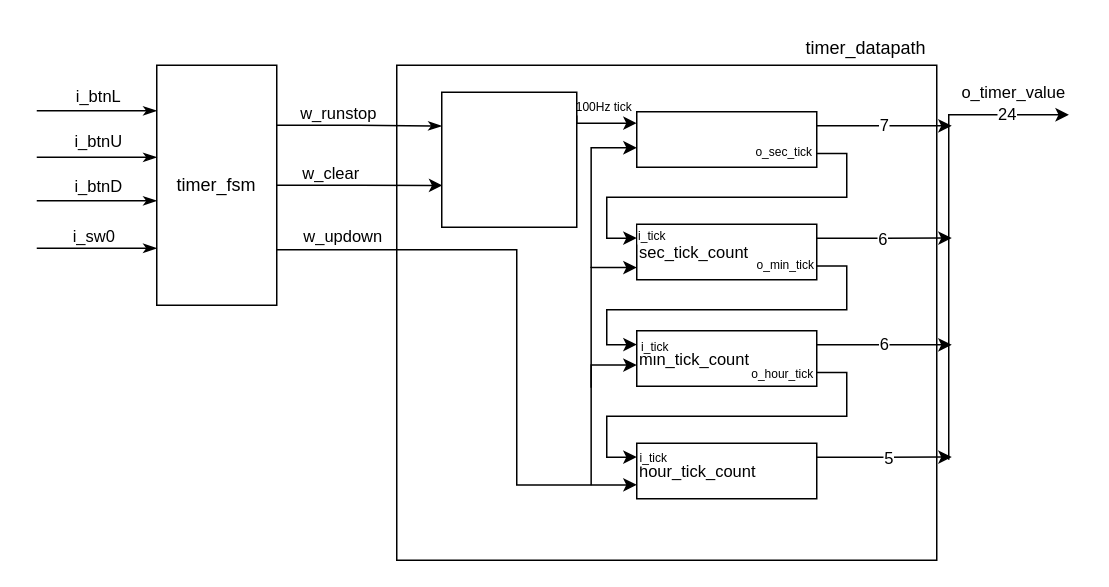
Image size: 1109x587. Some labels were removed from this diagram. Here are the shapes that lost their labels. From the top down, the centre of each, then its label:
At (726,138): "msec_tick_count".
At (508,159): "tick_gen _100hz".
